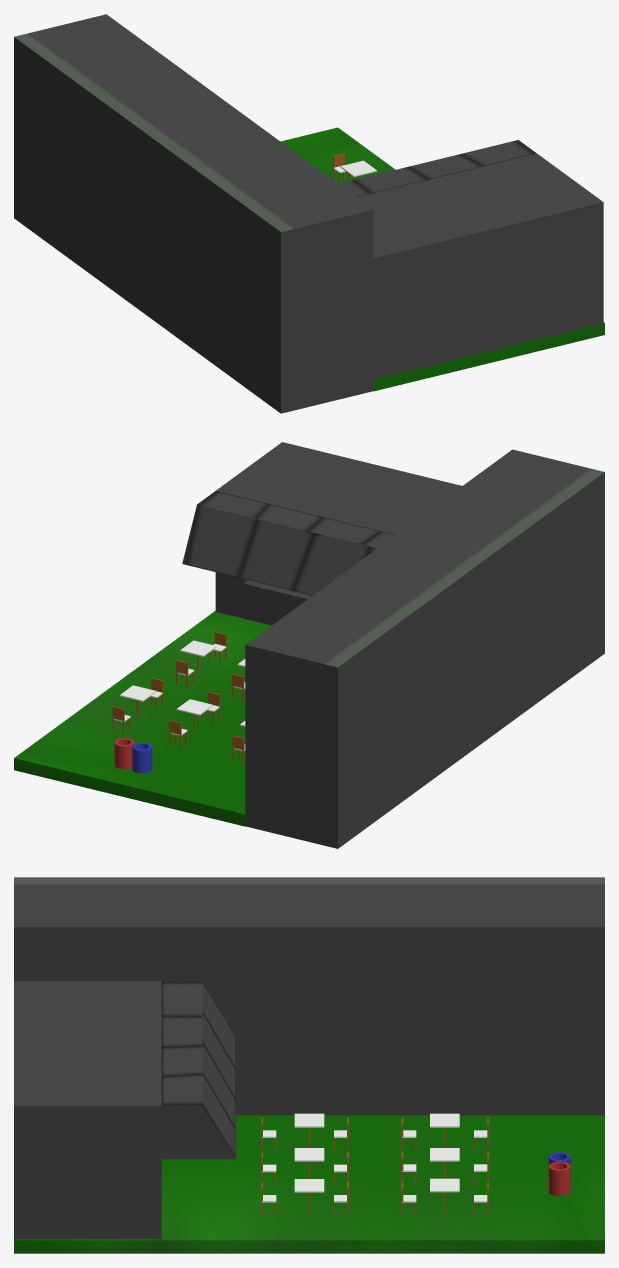
The model's file is Shop.obj.
3 views of the same model, one above another, from view 1: azimuth 30°, elevation 25°; view 2: azimuth 150°, elevation 25°; view 3: azimuth 270°, elevation 25° (orthographic). The views are drawn at different scales.
Parts seen in each view (by area): view 1: 店, 椅子机; view 2: 店, 椅子机, ゴミ箱; view 3: 店, 椅子机, ゴミ箱.
Part boxes in pixels (x1,y1,x2,y2): 店: [14, 14, 604, 413]; 椅子机: [333, 153, 376, 183]; 店: [14, 442, 604, 848]; 椅子机: [112, 631, 245, 762]; ゴミ箱: [114, 738, 152, 773]; 店: [14, 877, 604, 1253]; 椅子机: [261, 1113, 488, 1215]; ゴミ箱: [548, 1152, 570, 1196].
Bounding box in the file's own units: 28.02 × 15.03 × 40.
Materials: 3 (3 with a texture image).
